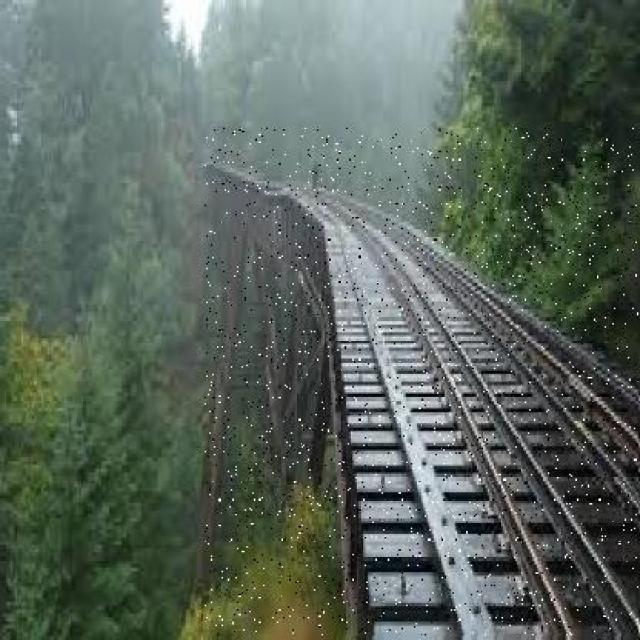rail: (206, 130, 639, 636)
